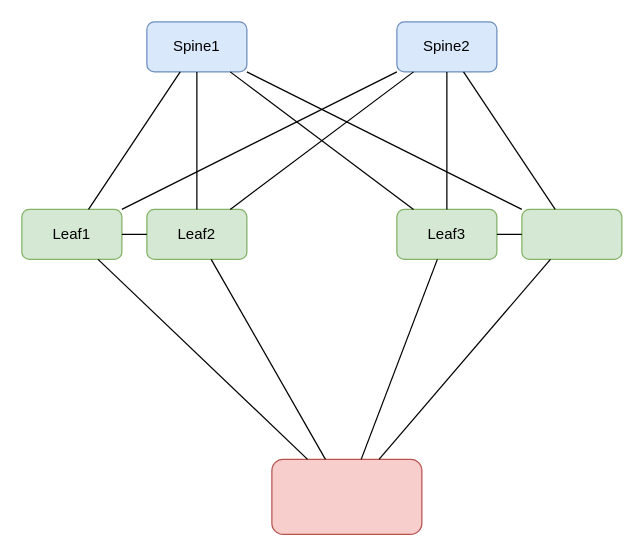
Some shapes in this 644 by 556 pixel diagram are drawn without their labels. Each missing label, with the box of its shape:
Leaf4: (521, 208, 622, 259)
Traffic Generator (IXIA-c): (271, 458, 422, 534)
